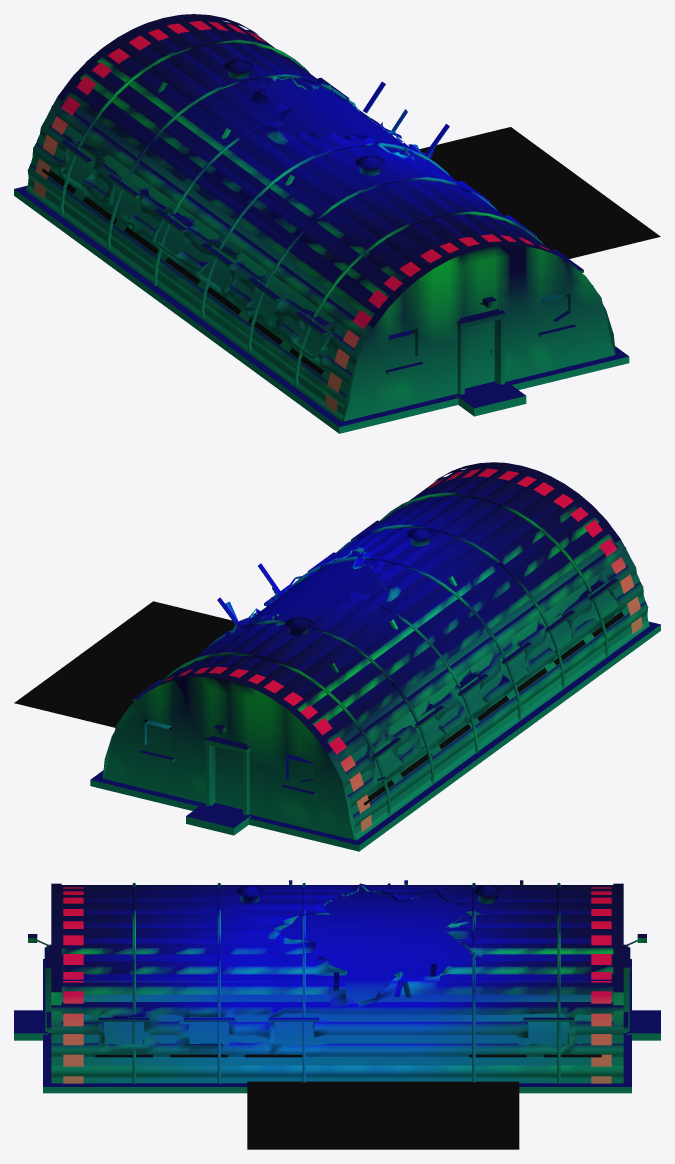
Rendered from quonsetclean_damaged.glb.
The picture shows the model from 3 angles, top to bottom: view 1: azimuth 30°, elevation 25°; view 2: azimuth 150°, elevation 25°; view 3: azimuth 270°, elevation 25°; orthographic projection. The views are drawn at different scales.
Visible parts, largest first — view 1: lod0; view 2: lod0; view 3: lod0.
Part boxes in pixels (<box>): lod0: <box>14,14,660,433</box>; lod0: <box>14,462,660,851</box>; lod0: <box>14,880,660,1149</box>.
Size of what is drawn, in the model's own units: 13.37 by 4.68 by 19.04.
